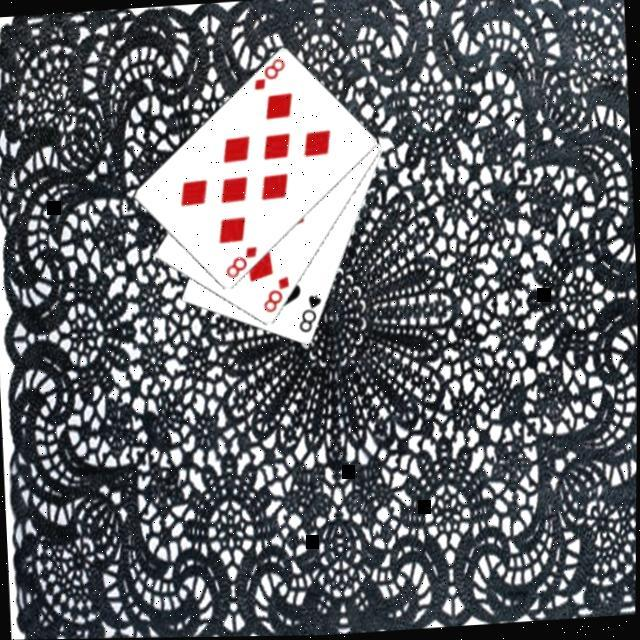8D: (224, 242, 264, 282), (251, 54, 291, 92), (262, 272, 296, 315)
8S: (296, 290, 328, 336)
